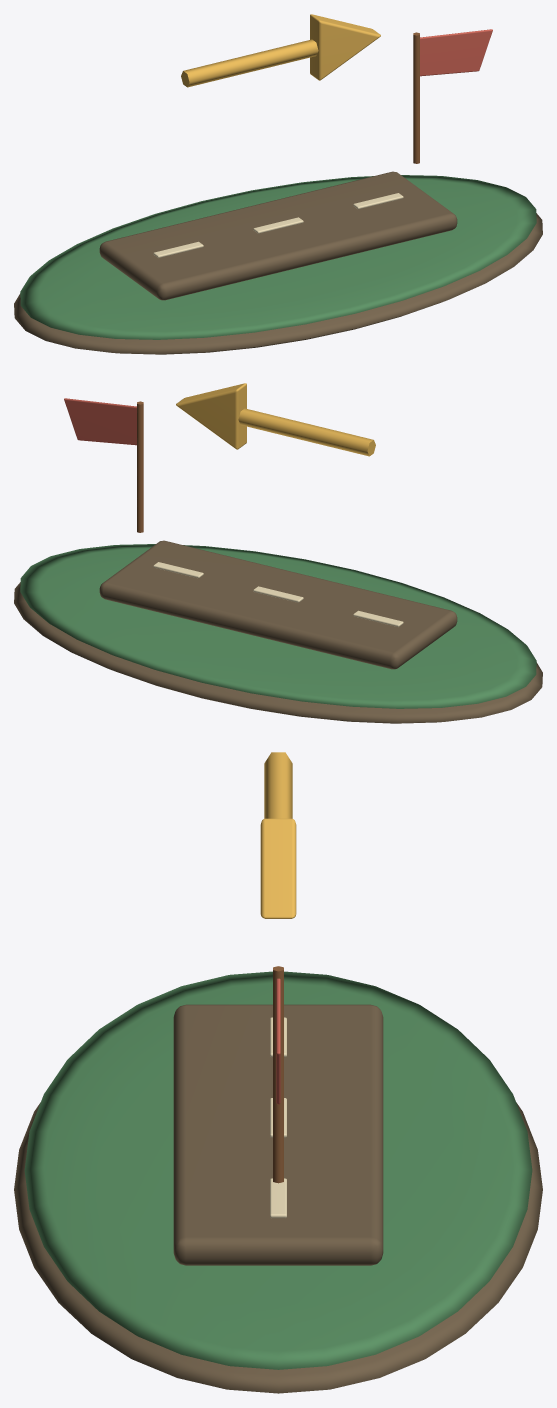
File: right-edge.glb
The picture shows the model from 3 angles, top to bottom: view 1: azimuth 30°, elevation 25°; view 2: azimuth 150°, elevation 25°; view 3: azimuth 270°, elevation 25°; orthographic projection. The views are drawn at different scales.
Visible parts, largest first — view 1: right-edge_surface_01, right-edge_surface_00, right-edge_surface_02, right-edge_surface_04, right-edge_surface_05, right-edge_surface_03; view 2: right-edge_surface_01, right-edge_surface_00, right-edge_surface_02, right-edge_surface_04, right-edge_surface_05, right-edge_surface_03; view 3: right-edge_surface_01, right-edge_surface_00, right-edge_surface_02, right-edge_surface_03, right-edge_surface_05.
Part boxes in pixels (x1,y1,x2,y2): right-edge_surface_01: (20, 175, 536, 339); right-edge_surface_00: (14, 171, 542, 354); right-edge_surface_02: (181, 14, 380, 87); right-edge_surface_04: (420, 29, 492, 76); right-edge_surface_05: (153, 193, 403, 257); right-edge_surface_03: (413, 32, 419, 163); right-edge_surface_01: (20, 544, 536, 708); right-edge_surface_00: (14, 540, 542, 723); right-edge_surface_02: (176, 383, 375, 456); right-edge_surface_04: (64, 398, 136, 445); right-edge_surface_05: (153, 562, 403, 626); right-edge_surface_03: (137, 401, 143, 532); right-edge_surface_01: (24, 971, 532, 1369); right-edge_surface_00: (14, 1004, 542, 1393); right-edge_surface_02: (260, 752, 296, 918); right-edge_surface_03: (273, 966, 283, 1183); right-edge_surface_05: (270, 1017, 286, 1218).
Bounding box in the file's own units: 4.56 × 2.22 × 2.5.
